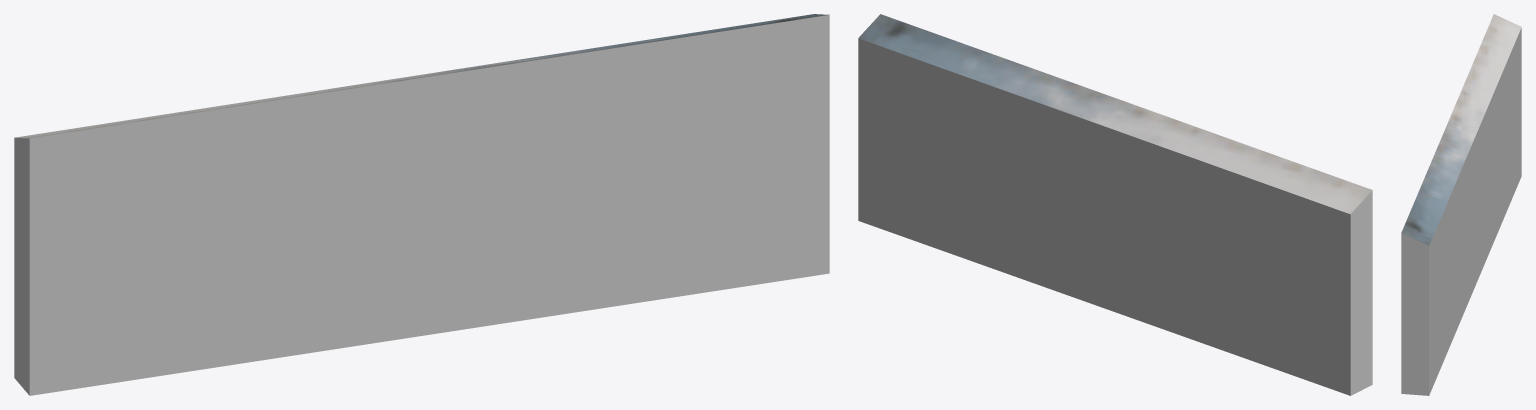
File: DEBW_0010007TI00.gltf
3 views of the same model, side by side, from view 1: azimuth 30°, elevation 25°; view 2: azimuth 150°, elevation 25°; view 3: azimuth 270°, elevation 25° (orthographic). The views are drawn at different scales.
Visible parts, largest first — view 1: Z_UP; view 2: Z_UP; view 3: Z_UP.
Boxes of the visible parts, x1,y1,x2,y2 form: Z_UP: (14, 14, 829, 395); Z_UP: (858, 14, 1372, 395); Z_UP: (1401, 14, 1521, 395).
Size of the model in its own units: 24.05 by 8.12 by 5.52.
2 materials, 1 textured.
